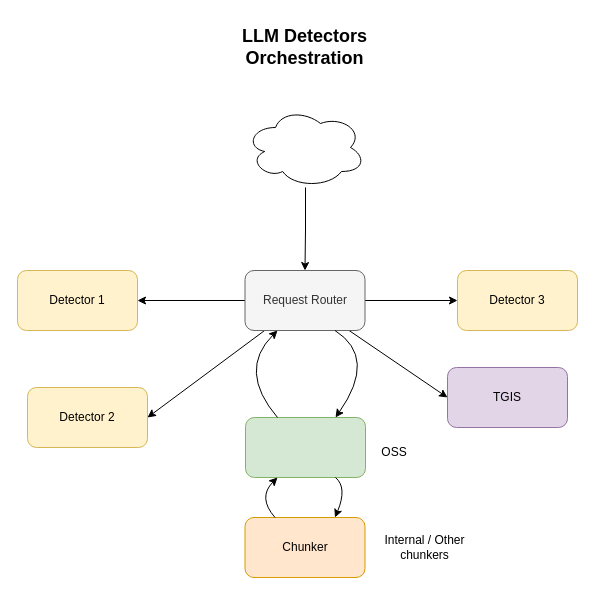
Some shapes in this 595 by 595 pixel diagram are drawn without their labels. Each missing label, with the box of its shape:
Orchestrator: (244, 416, 366, 478)
User: (244, 106, 366, 188)
